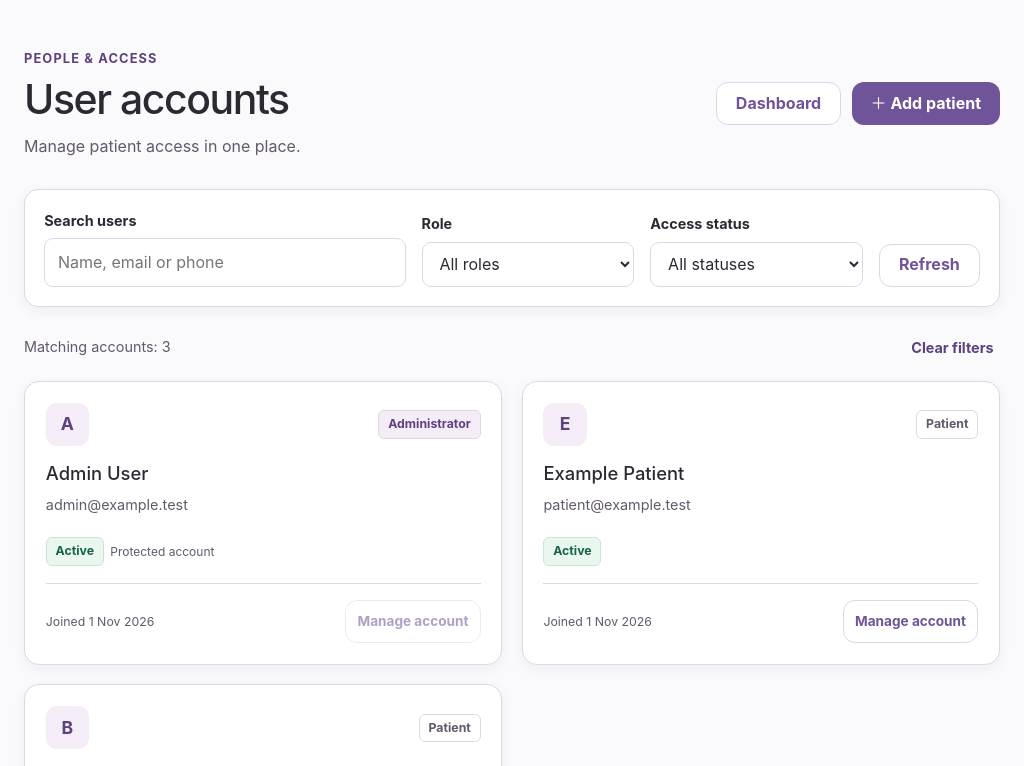
Test: administrator user management › performs Block account for the reviewed patient
Click the button with aria-label "Manage account: patient@example.test" at (911, 622), box [843,600,978,644]
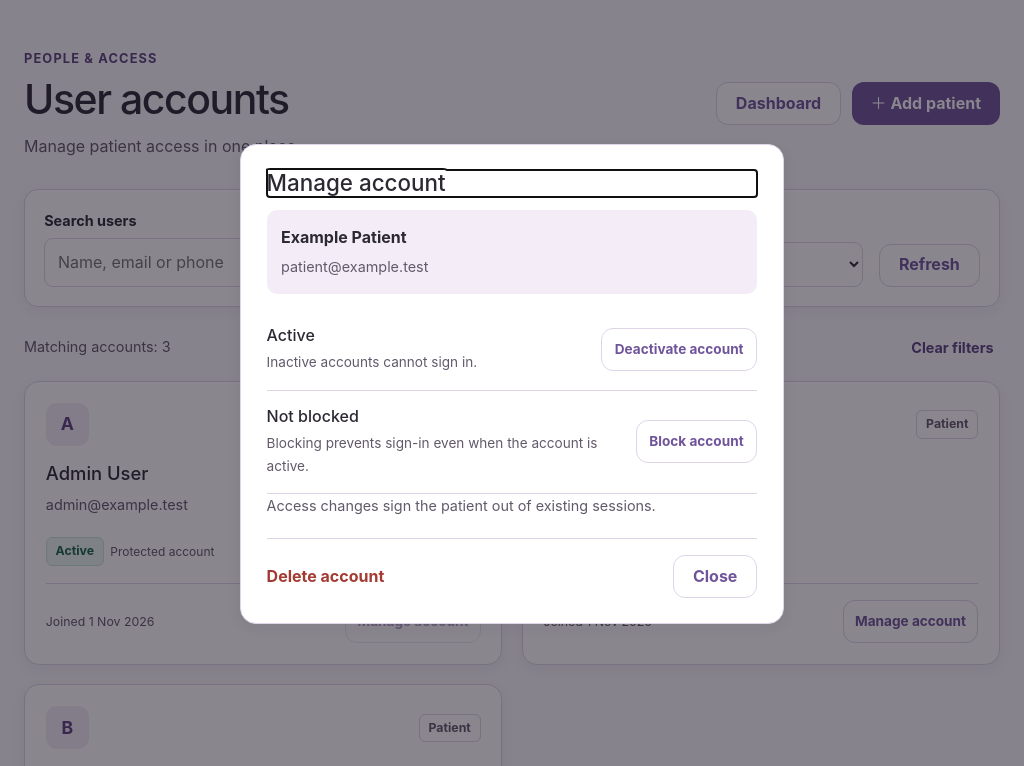
Click the button "Block account" at (696, 442), box [636,420,757,463]
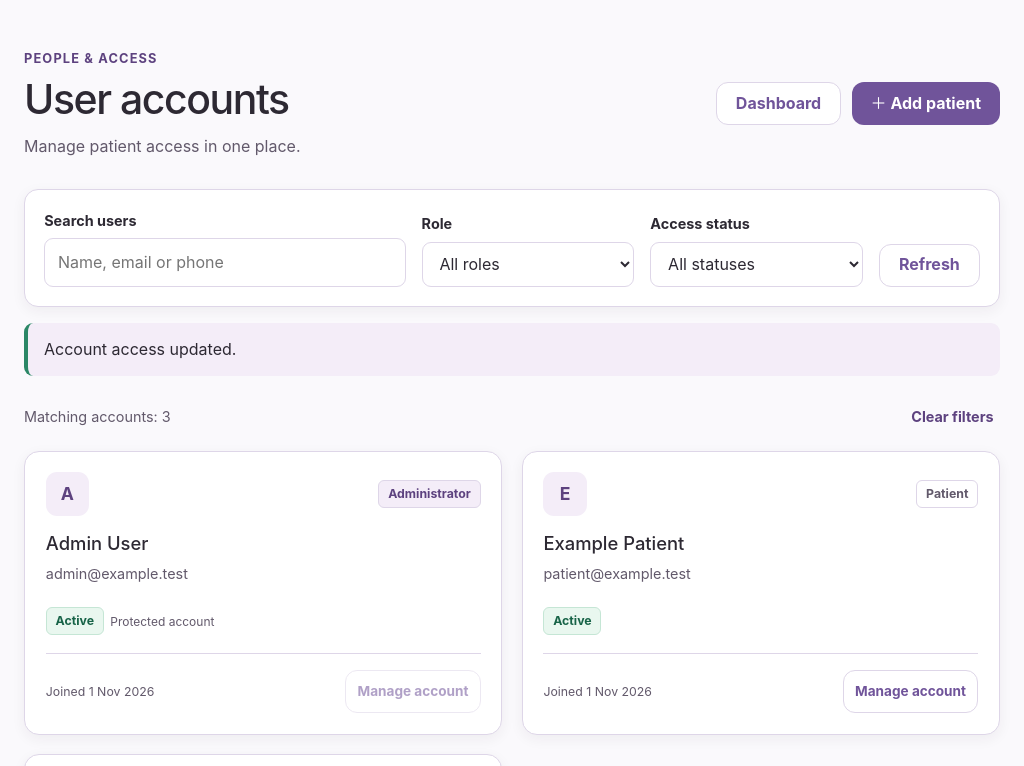
expect the text "Account access updated." is shown: met, box [24,323,1000,376]
